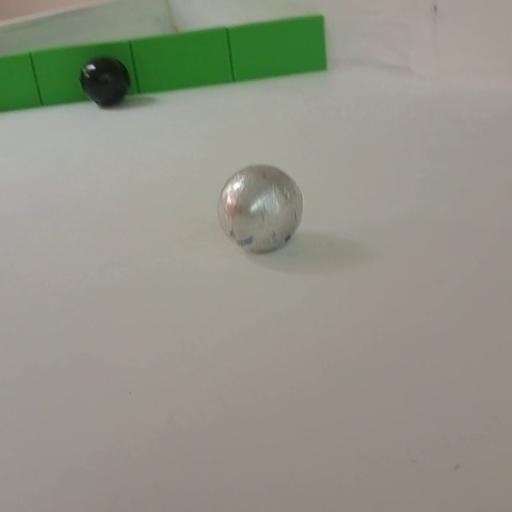alive: (216, 163, 305, 254)
dead: (78, 55, 130, 108)
